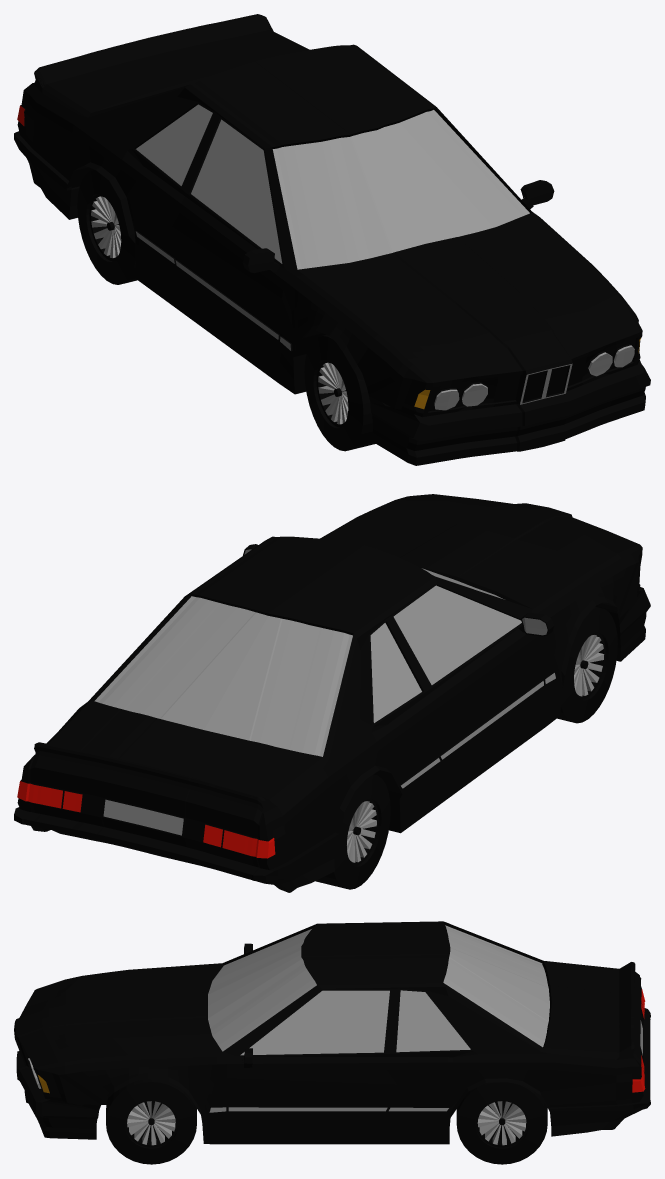
File: bawara.fbx
The picture shows the model from 3 angles, top to bottom: view 1: azimuth 30°, elevation 25°; view 2: azimuth 150°, elevation 25°; view 3: azimuth 270°, elevation 25°; orthographic projection. The views are drawn at different scales.
Parts seen in each view (by area): view 1: Plane, Plane.003, Plane.004; view 2: Plane, Plane.004, Plane.003; view 3: Plane, Plane.001, Plane.002.
Part boxes in pixels (x1=…): Plane: x1=14, y1=14, x2=650, y2=465; Plane.003: x1=304, y1=335, x2=375, y2=451; Plane.004: x1=77, y1=169, x2=137, y2=284; Plane: x1=14, y1=494, x2=650, y2=892; Plane.004: x1=315, y1=774, x2=390, y2=889; Plane.003: x1=557, y1=607, x2=617, y2=723; Plane: x1=14, y1=921, x2=650, y2=1144; Plane.001: x1=106, y1=1079, x2=196, y2=1164; Plane.002: x1=456, y1=1082, x2=547, y2=1164.
Size of the model in its own units: 138 by 93.29 by 322.
